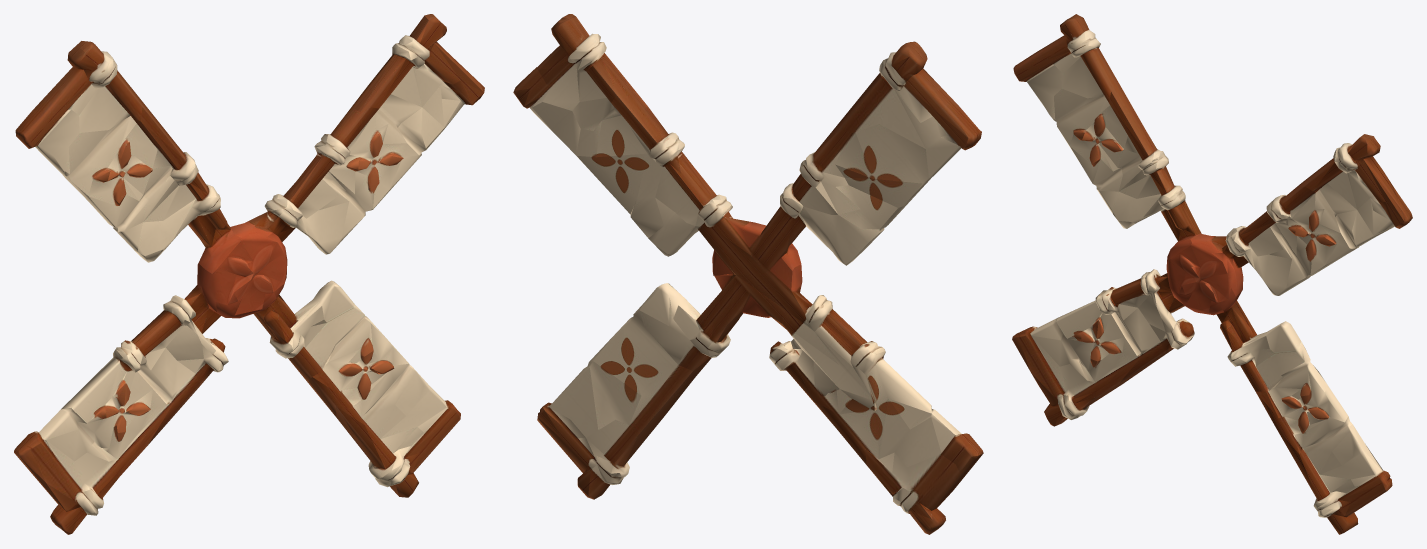
Rendered from windmill-sails.glb.
The picture shows the model from 3 angles, left to right: view 1: azimuth 30°, elevation 25°; view 2: azimuth 150°, elevation 25°; view 3: azimuth 330°, elevation 25°; orthographic projection. The views are drawn at different scales.
Size of the model in its own units: 1.75 by 1.9 by 0.1191.
Materials: 1 (1 with a texture image).
